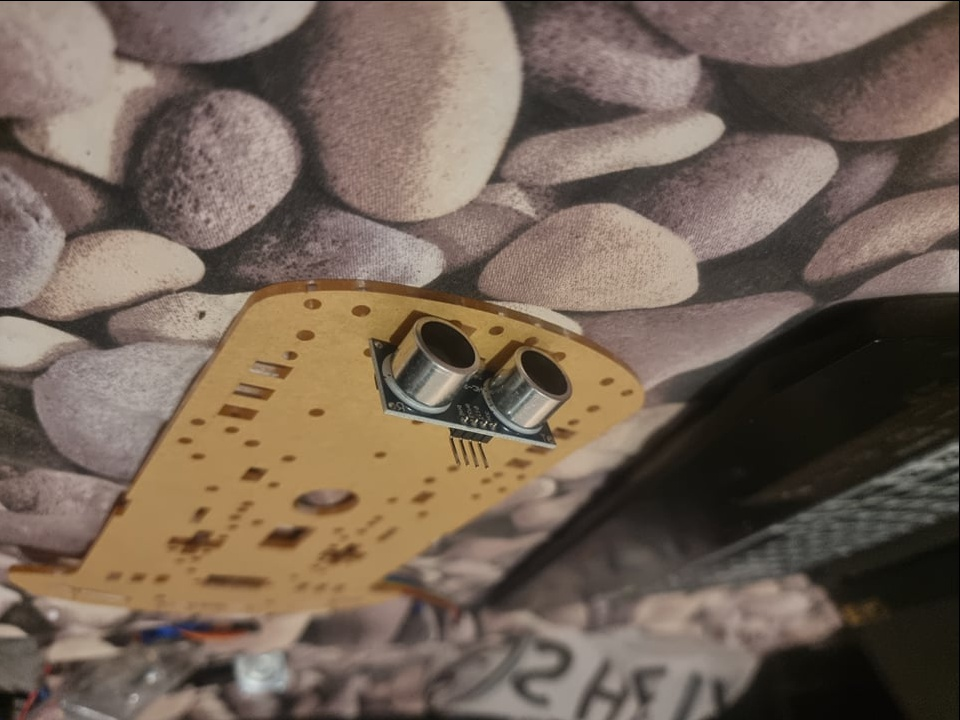SENSOR: (378, 311, 577, 450)
